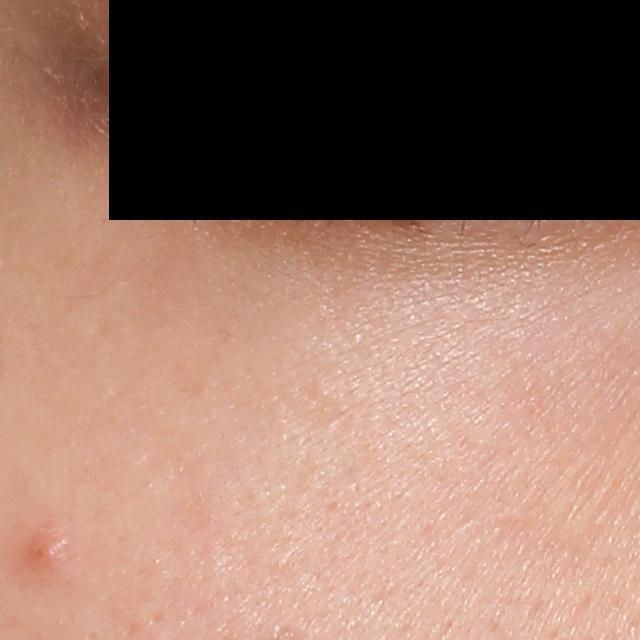papule: (22, 527, 72, 569)
